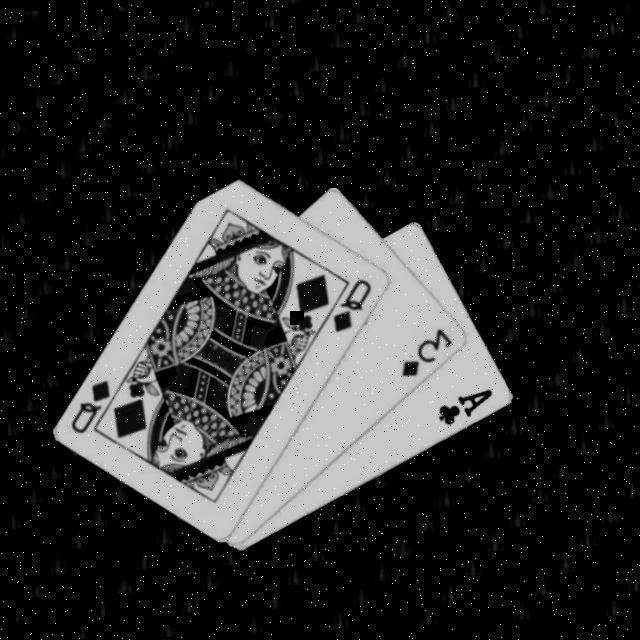3D: (397, 324, 457, 381)
AC: (436, 385, 497, 429)
QD: (66, 375, 116, 436), (329, 275, 377, 336)
